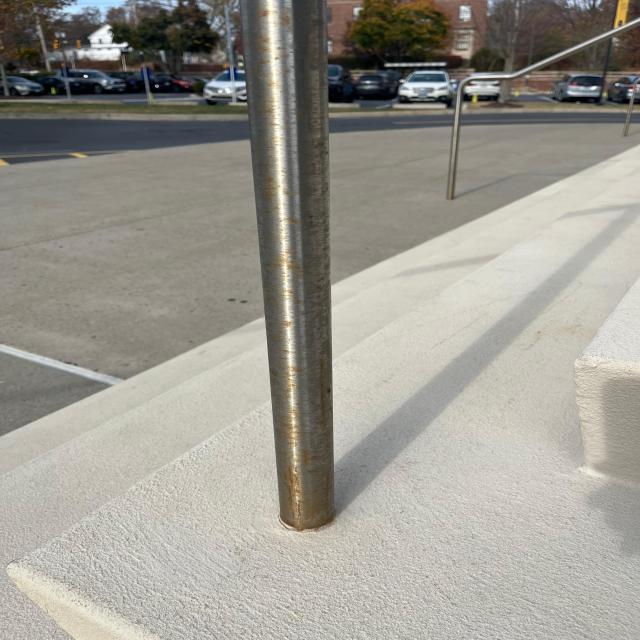Uniform Corrosion: (242, 1, 336, 532), (242, 1, 336, 531)
